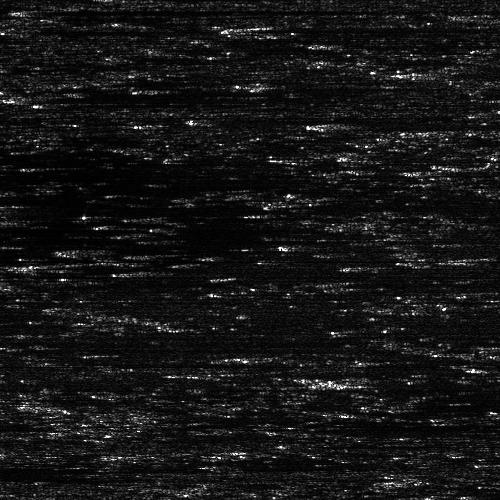rock: (375, 163, 490, 176), (0, 86, 73, 105), (201, 22, 284, 35), (385, 69, 490, 78), (299, 40, 382, 51), (299, 122, 382, 127), (0, 7, 63, 12), (455, 253, 486, 262), (0, 28, 36, 33), (0, 205, 19, 214), (173, 116, 194, 121)
shadow: (16, 86, 224, 105), (243, 22, 462, 35), (341, 40, 500, 51), (32, 7, 370, 12), (433, 163, 500, 176), (341, 122, 492, 127), (10, 28, 148, 33), (0, 205, 66, 214), (438, 69, 500, 78), (184, 116, 256, 121), (471, 253, 500, 262)
